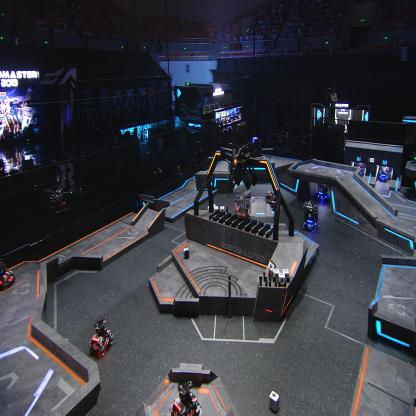car: (168, 377, 201, 416), (90, 317, 113, 357), (0, 255, 15, 292), (302, 201, 318, 231), (234, 190, 250, 219), (314, 178, 330, 205), (264, 188, 279, 211), (354, 162, 364, 178), (379, 168, 389, 182)
